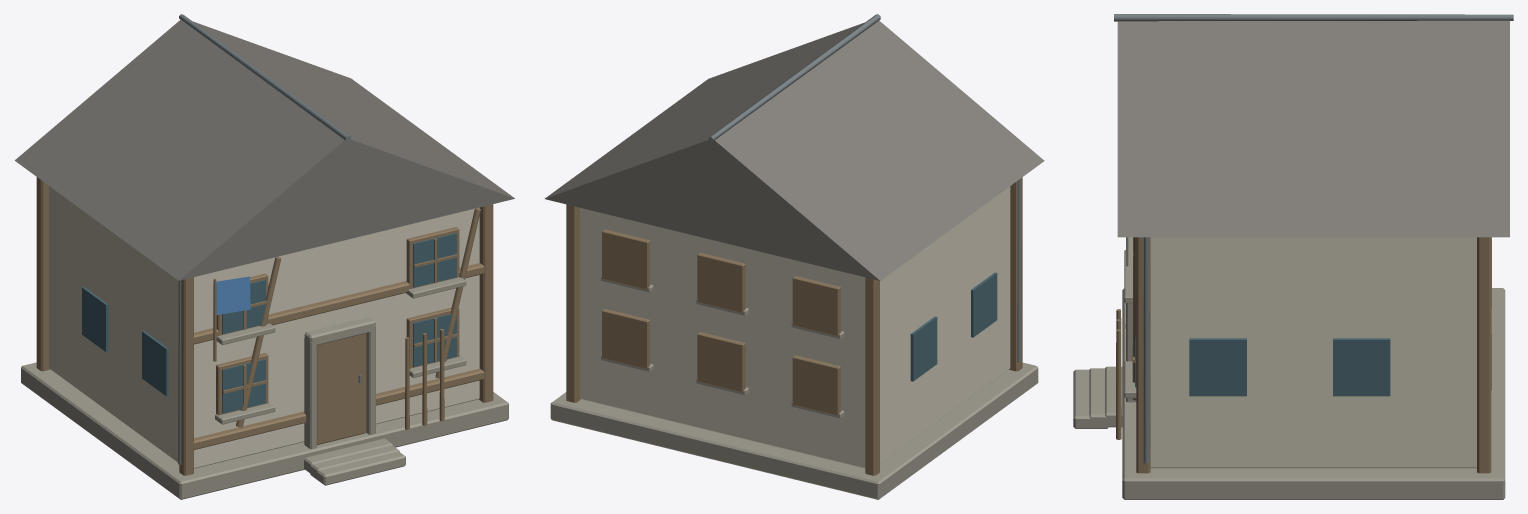
Rendered from bld_caserne_a03.glb.
The picture shows the model from 3 angles, left to right: view 1: azimuth 30°, elevation 25°; view 2: azimuth 150°, elevation 25°; view 3: azimuth 270°, elevation 25°; orthographic projection. The views are drawn at different scales.
Visible parts, largest first — view 1: bld_caserne_a03; view 2: bld_caserne_a03; view 3: bld_caserne_a03.
Part boxes in pixels (<box>): bld_caserne_a03: <box>15,14,514,499</box>; bld_caserne_a03: <box>544,14,1044,499</box>; bld_caserne_a03: <box>1073,14,1513,499</box>.
Size of the model in its own units: 3.88 by 3.61 by 3.68.
